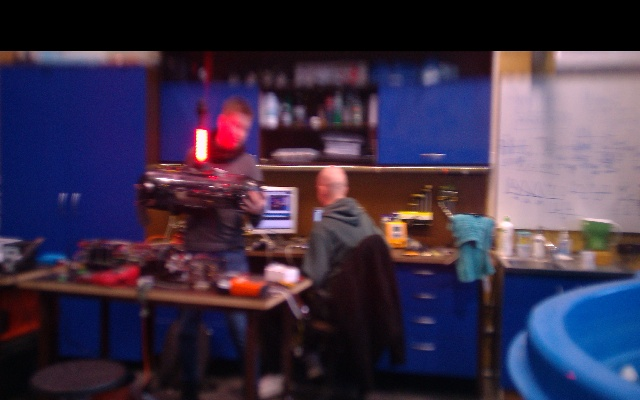red: (194, 128, 209, 164)
